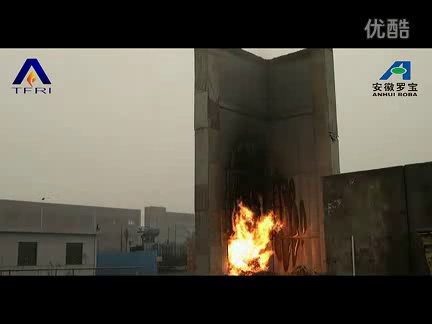fire: (226, 198, 286, 277)
